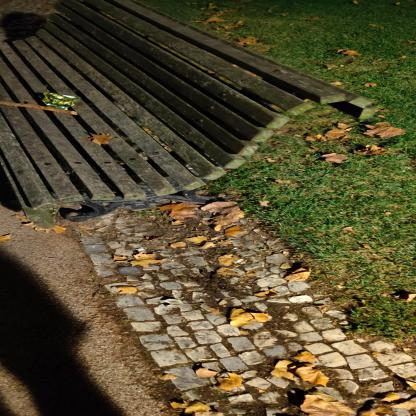plastik: (42, 92, 82, 110)
